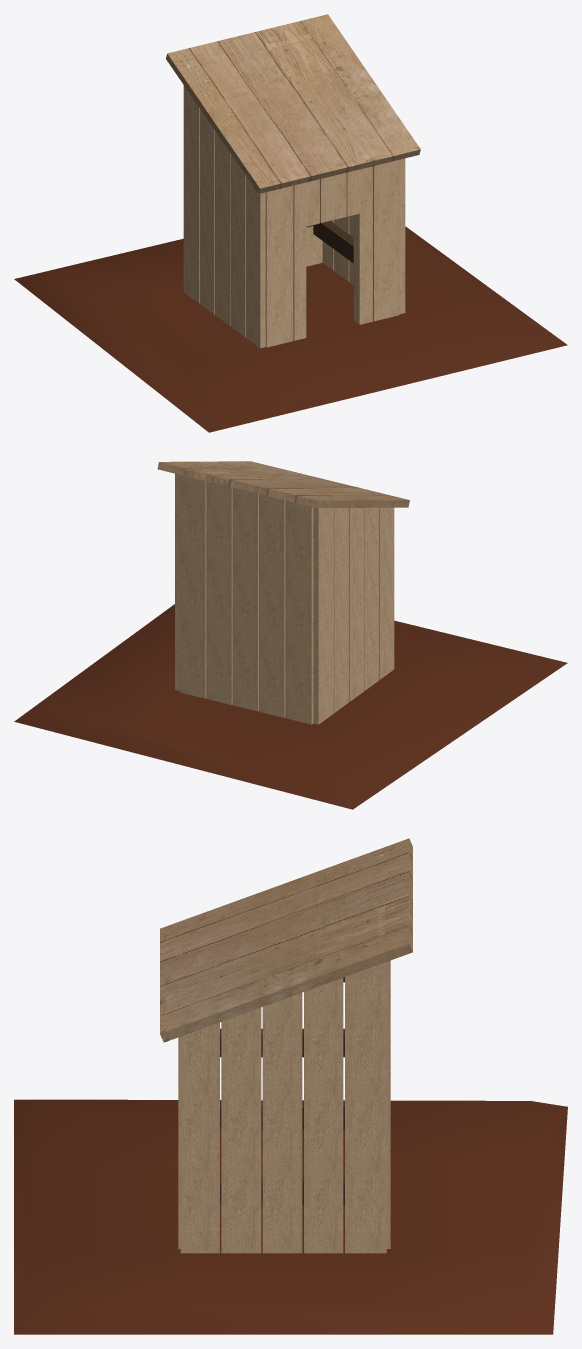
Rendered from Bldg_Base_4.fbx.
3 views of the same model, one above another, from view 1: azimuth 30°, elevation 25°; view 2: azimuth 150°, elevation 25°; view 3: azimuth 270°, elevation 25° (orthographic). The views are drawn at different scales.
Parts seen in each view (by area): view 1: Bldg_Base_4, Bldg_shed, ShedRoof; view 2: Bldg_shed, Bldg_Base_4, ShedRoof; view 3: Bldg_Base_4, Bldg_shed, ShedRoof.
Part boxes in pixels (box(x1,y1,x2,y2)): Bldg_Base_4: box(14, 226, 567, 432); Bldg_shed: box(183, 85, 405, 348); ShedRoof: box(166, 14, 420, 193); Bldg_shed: box(175, 473, 394, 724); Bldg_Base_4: box(14, 604, 567, 809); ShedRoof: box(157, 461, 409, 508); Bldg_Base_4: box(14, 1099, 567, 1334); Bldg_shed: box(178, 960, 390, 1253); ShedRoof: box(160, 838, 412, 1042).
Bounding box in the file's own units: 6.75 × 4.42 × 6.72.
